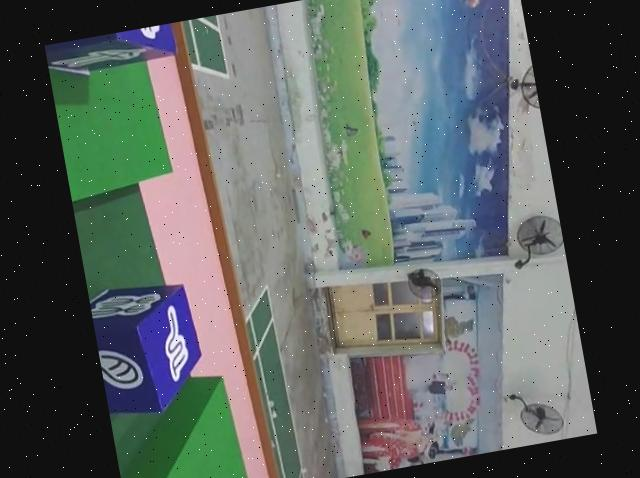R2 Fake Blue: (87, 276, 208, 422), (43, 23, 177, 80)
